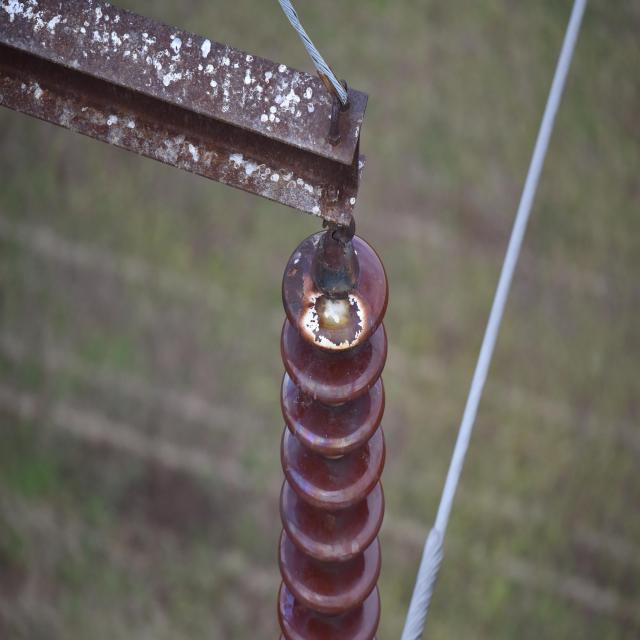insulator: (276, 230, 390, 640)
